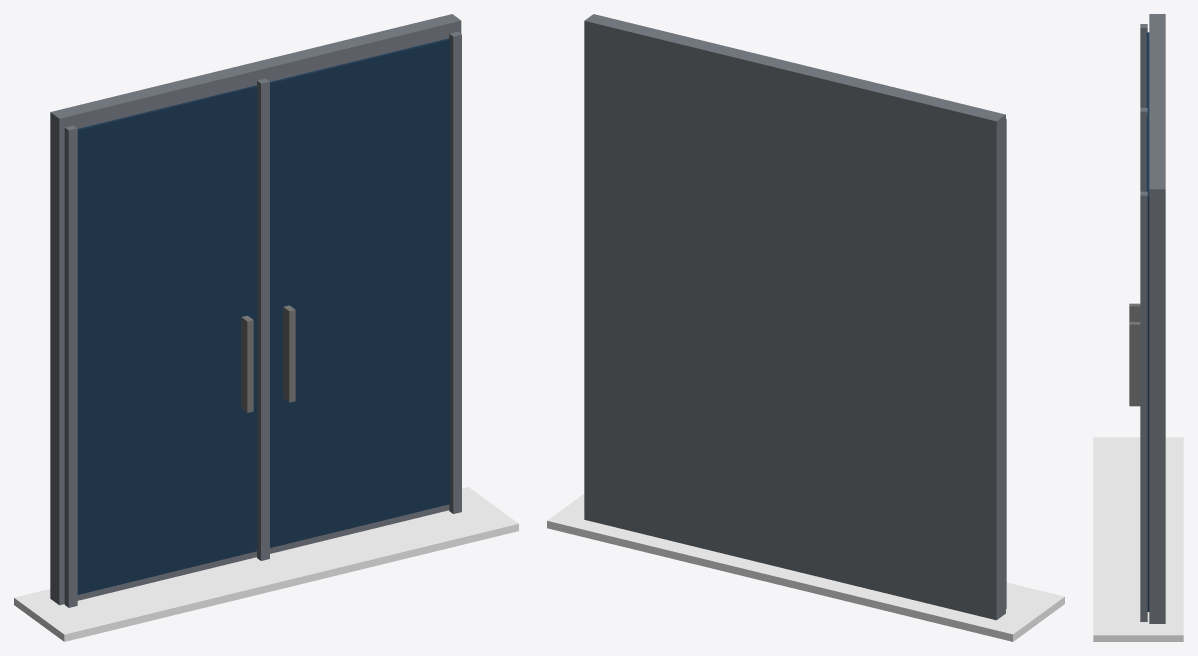
Rendered from entrance.fbx.
The picture shows the model from 3 angles, left to right: view 1: azimuth 30°, elevation 25°; view 2: azimuth 150°, elevation 25°; view 3: azimuth 270°, elevation 25°; orthographic projection. The views are drawn at different scales.
Visible parts, largest first — view 1: a2002/0/entrance; view 2: a2002/0/entrance; view 3: a2002/0/entrance.
Part boxes in pixels (box(x1,y1,x2,y2)): a2002/0/entrance: box(14, 14, 518, 641); a2002/0/entrance: box(547, 14, 1064, 641); a2002/0/entrance: box(1093, 14, 1183, 641).
Bounding box in the file's own units: 2.6 × 2.7 × 0.5.
